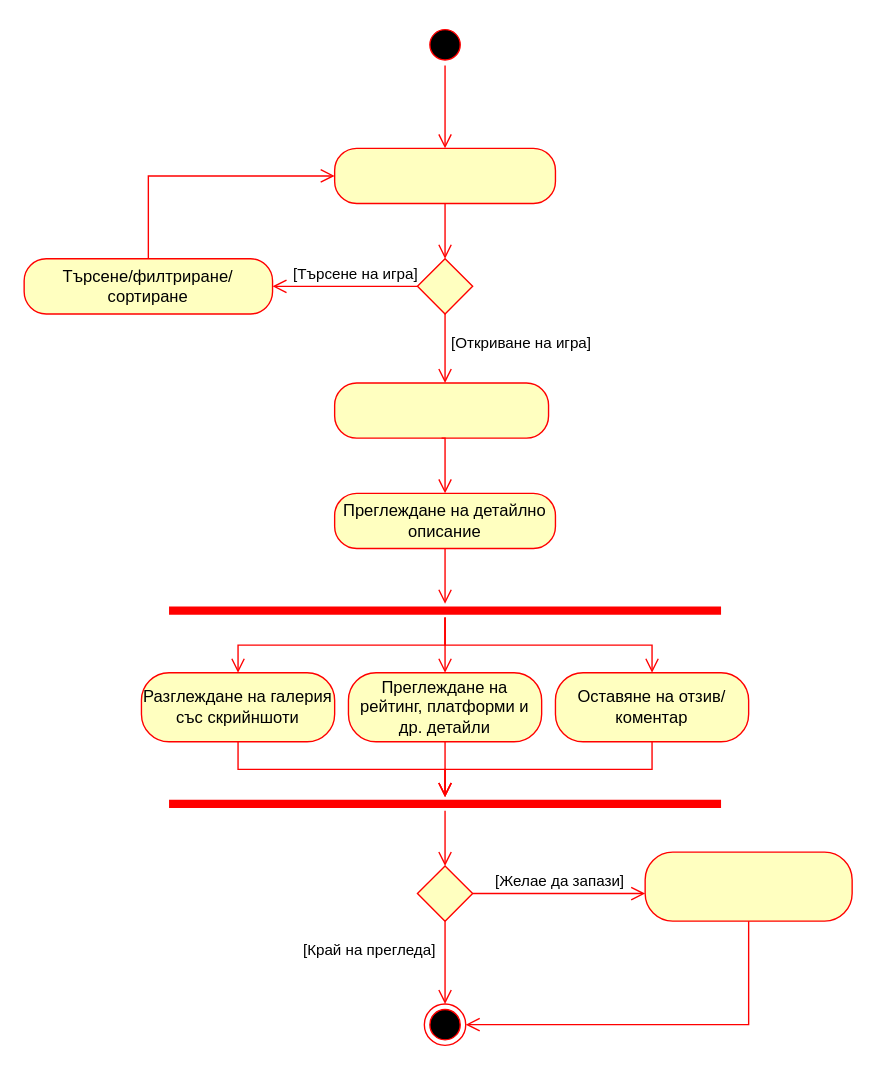
Some shapes in this 876 by 1070 pixel diagram are drawn without their labels. The centre of each missing label's shape, as x and y in pixels:
"Добавяне на играта в списъка с желания (wishlist )" belongs at point 748,886.
"Избиране на конкретна игра" belongs at point 441,410.
"Разглеждане на списък с игри" belongs at point 444,175.
